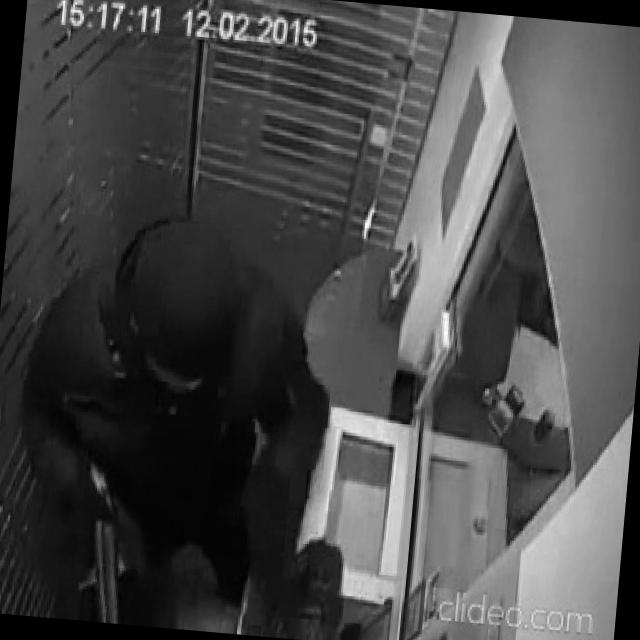gun: (65, 450, 140, 624)
person with a gun: (1, 198, 346, 640)
